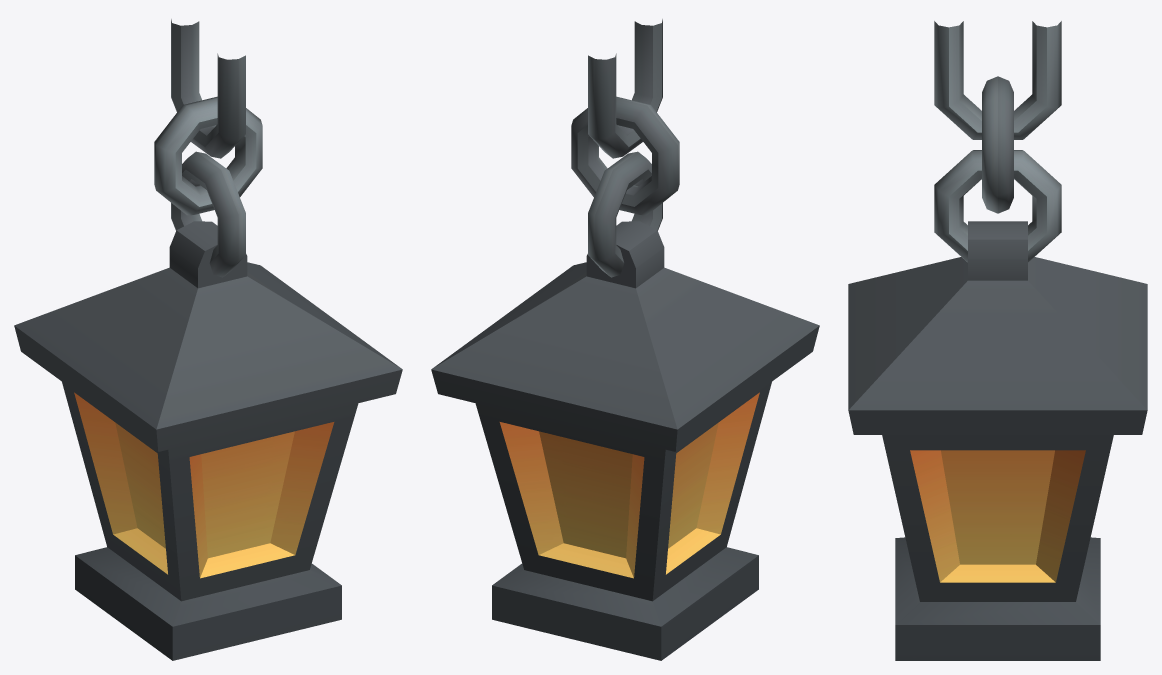
File: lantern_hanging.glb
The picture shows the model from 3 angles, left to right: view 1: azimuth 30°, elevation 25°; view 2: azimuth 150°, elevation 25°; view 3: azimuth 270°, elevation 25°; orthographic projection. The views are drawn at different scales.
Parts seen in each view (by area): view 1: lantern_hanging; view 2: lantern_hanging; view 3: lantern_hanging.
Part boxes in pixels (box(x1,y1,x2,y2)): lantern_hanging: box(14, 19, 402, 660); lantern_hanging: box(431, 19, 819, 660); lantern_hanging: box(848, 21, 1147, 660).
Bounding box in the file's own units: 0.4089 × 0.9 × 0.4089.
1 material, 1 textured.
